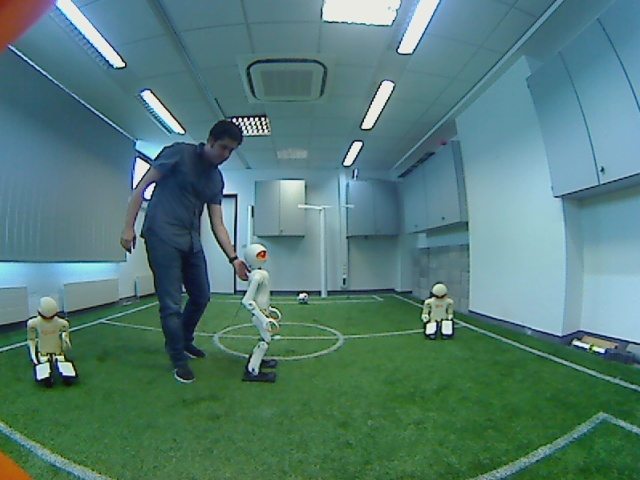ball: (293, 289, 315, 309)
robot: (234, 240, 289, 386), (19, 291, 88, 387), (413, 281, 461, 347)
